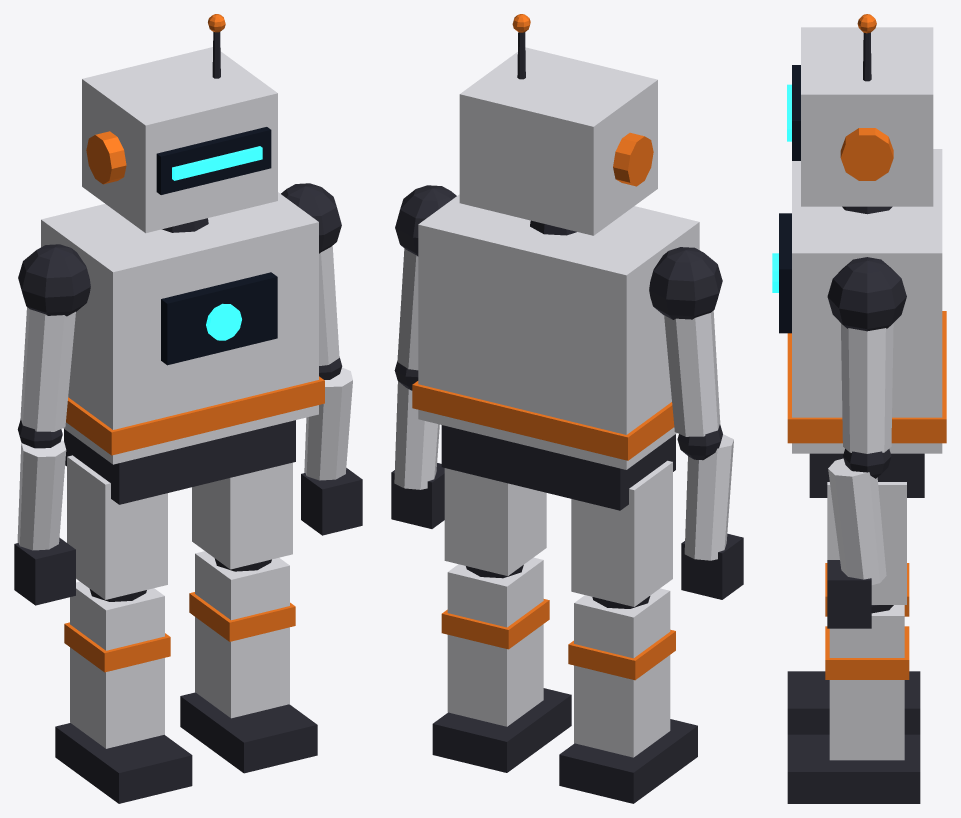
File: Robot.glb
The picture shows the model from 3 angles, left to right: view 1: azimuth 30°, elevation 25°; view 2: azimuth 150°, elevation 25°; view 3: azimuth 270°, elevation 25°; orthographic projection. The views are drawn at different scales.
Parts seen in each view (by area): view 1: Robot; view 2: Robot; view 3: Robot.
Part boxes in pixels (bbox=[...]): Robot: bbox=[14, 14, 362, 803]; Robot: bbox=[391, 14, 743, 803]; Robot: bbox=[772, 14, 946, 803].
Size of the model in its own units: 0.89 by 1.89 by 0.395.
